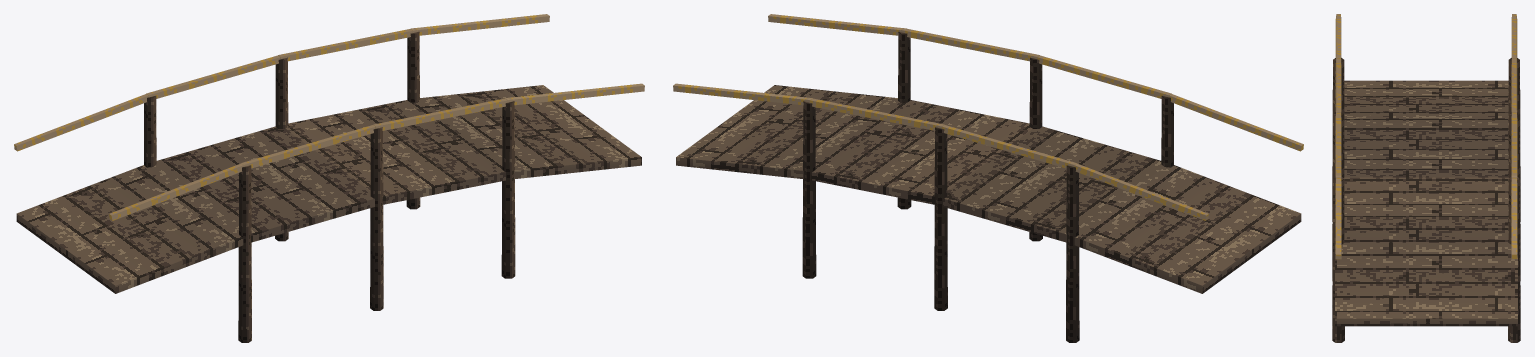
File: vlg.bridge__timber.glb
3 renders of one model, left to right at view 1: azimuth 30°, elevation 25°; view 2: azimuth 150°, elevation 25°; view 3: azimuth 270°, elevation 25°, orthographic. The views are drawn at different scales.
Parts seen in each view (by area): view 1: kit_deck, kit_rail; view 2: kit_deck, kit_rail; view 3: kit_deck, kit_rail.
Part boxes in pixels (box(x1,y1,x2,y2)): kit_deck: box(16, 85, 641, 293); kit_rail: box(14, 14, 644, 342); kit_deck: box(676, 85, 1301, 293); kit_rail: box(673, 14, 1303, 342); kit_deck: box(1335, 80, 1517, 326); kit_rail: box(1332, 14, 1520, 342).
Bounding box in the file's own units: 8.1 × 2.66 × 2.68.
Materials: 3 (3 with a texture image).
